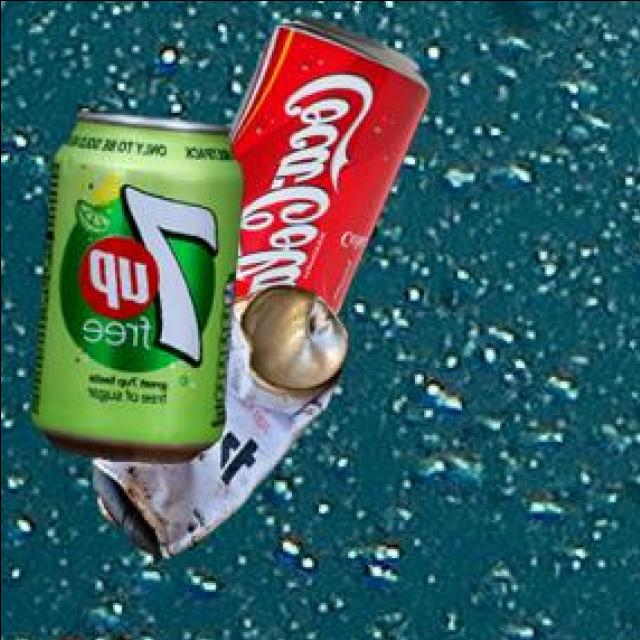logam: (35, 109, 245, 458), (95, 281, 350, 554), (229, 12, 433, 310)
